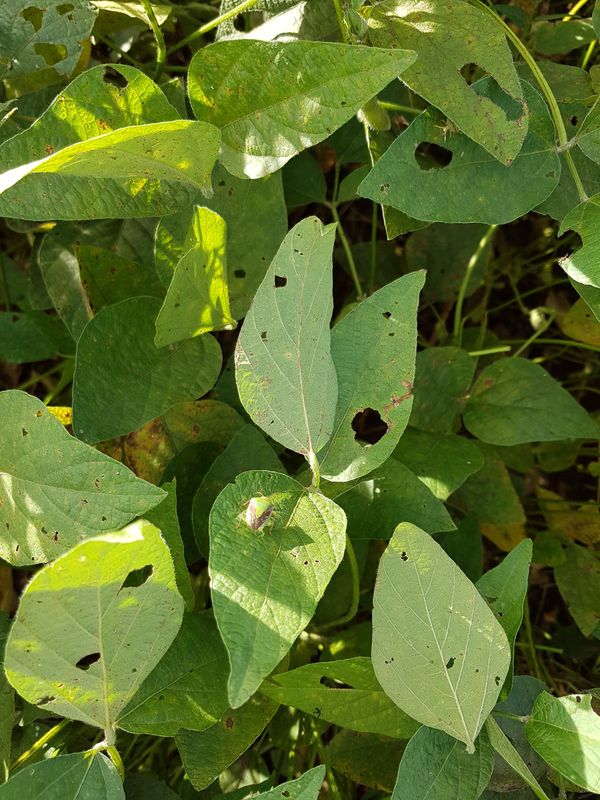Edessa_meditabunda: (230, 487, 286, 542)
